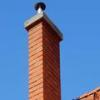chimneys: (25, 2, 62, 100)
